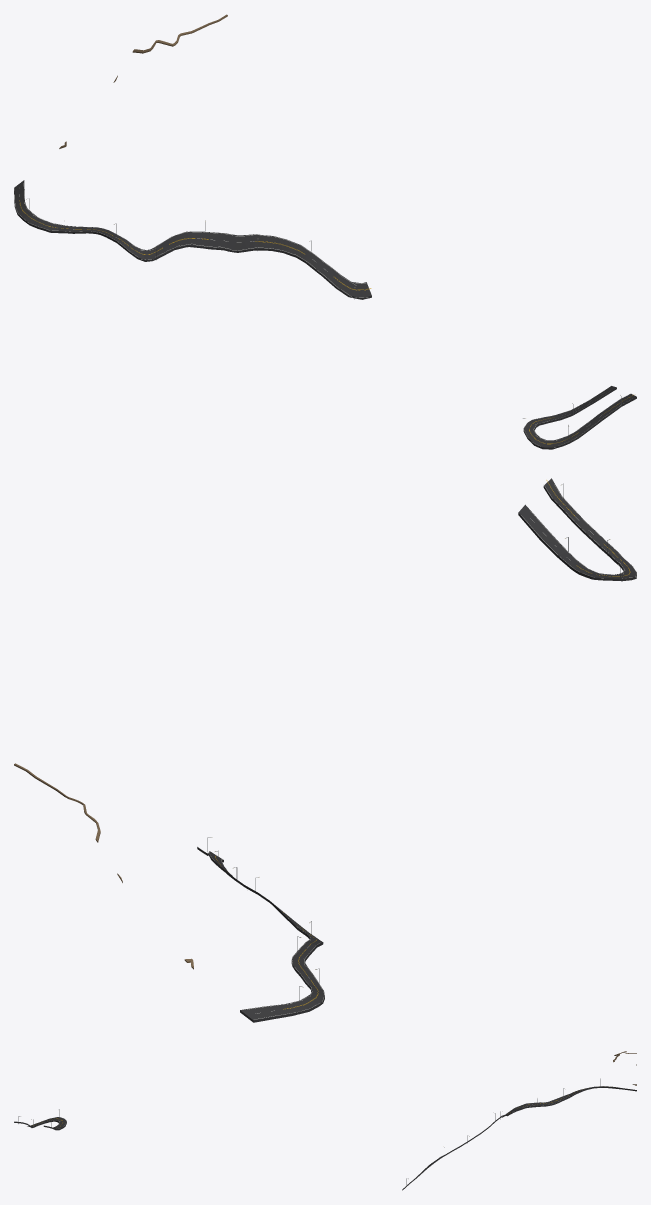
3 views of the same model, one above another, from view 1: azimuth 30°, elevation 25°; view 2: azimuth 150°, elevation 25°; view 3: azimuth 270°, elevation 25° (orthographic). The views are drawn at different scales.
Size of the model in its own units: 153 by 119 by 513.
